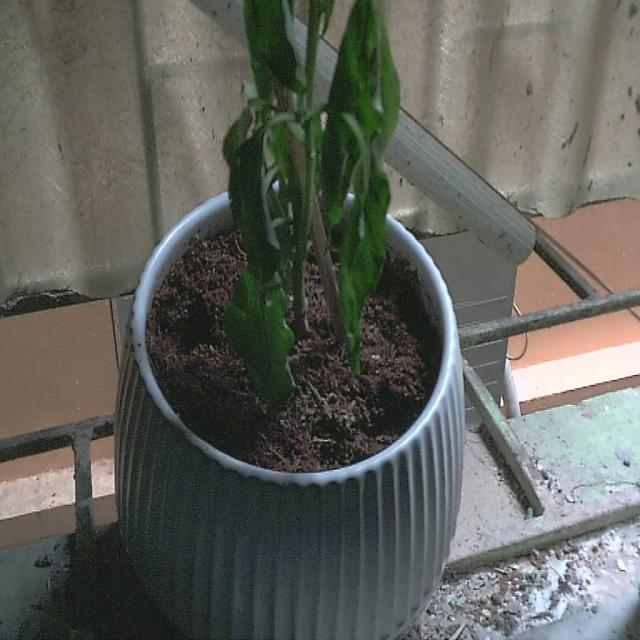Leaf: (231, 126, 284, 288)
